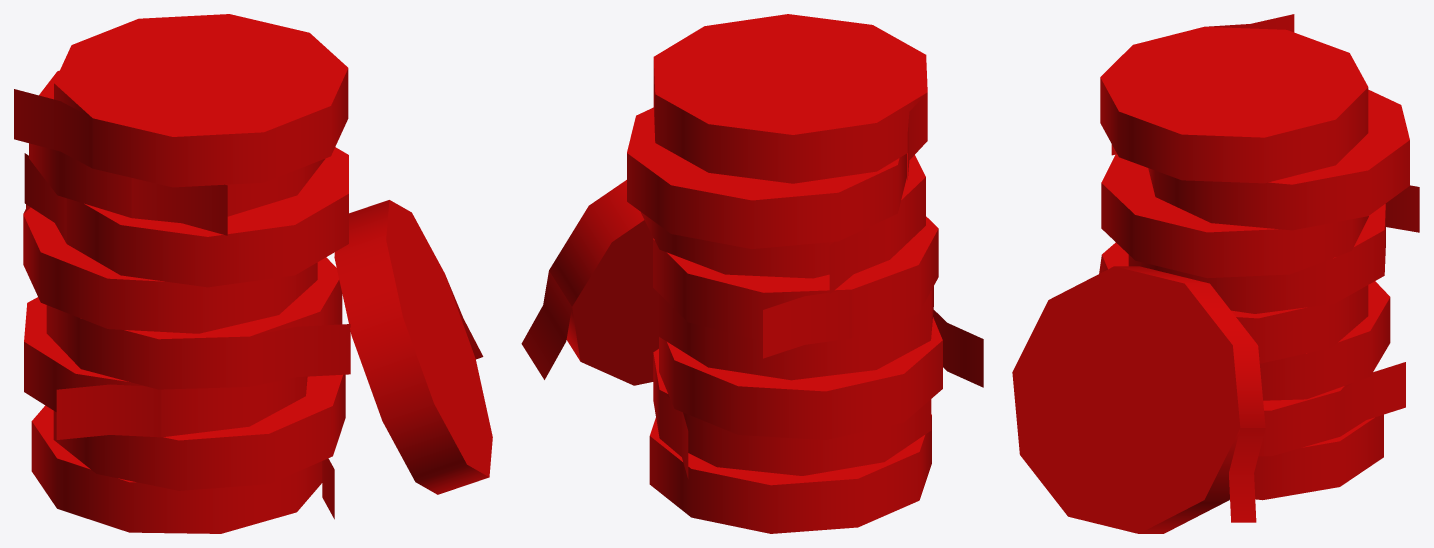
Rendered from ticket_roll_stack1.fbx.
The picture shows the model from 3 angles, left to right: view 1: azimuth 30°, elevation 25°; view 2: azimuth 150°, elevation 25°; view 3: azimuth 270°, elevation 25°; orthographic projection. The views are drawn at different scales.
Parts seen in each view (by area): view 1: ticket_roll_stack001; view 2: ticket_roll_stack001; view 3: ticket_roll_stack001.
Boxes of the visible parts, x1=… form: ticket_roll_stack001: x1=14, y1=14, x2=492, y2=533; ticket_roll_stack001: x1=521, y1=14, x2=983, y2=533; ticket_roll_stack001: x1=1012, y1=14, x2=1419, y2=533.
Bounding box in the file's own units: 141 × 120 × 121.
